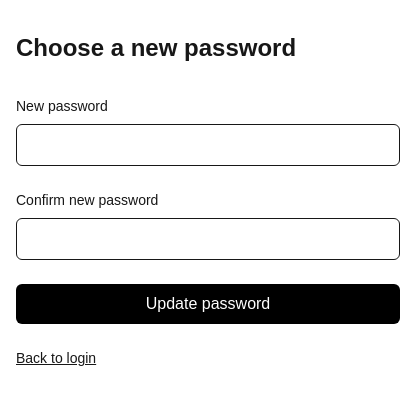
Test: Reset password page › shows a safe error when the password update fails
Expected: the heading "Choose a new password" is shown, [16,34,296,61]
Type "new-secret-password" into the password field labelled "New password" at (208, 145), box [16,124,400,166]
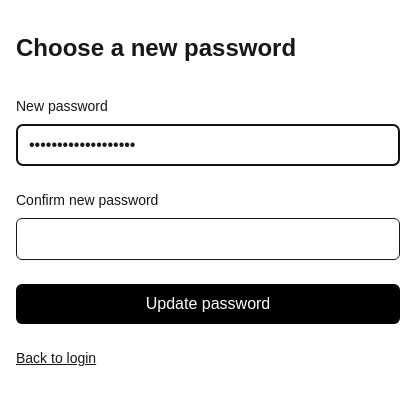
Type "new-secret-password" into the password field labelled "Confirm new password" at (208, 239), box [16,218,400,260]
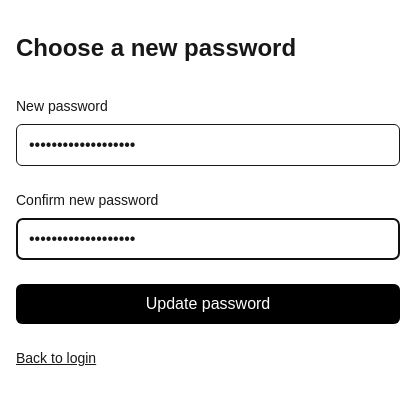
Click the button "Update password" at (208, 304), box [16,284,400,324]
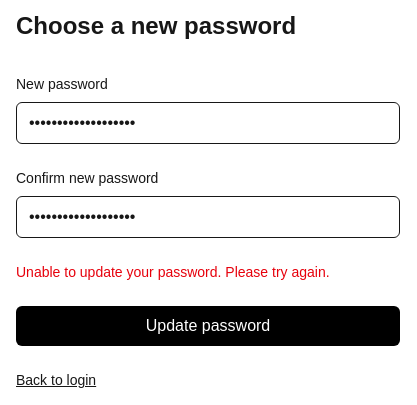
Expected: the message reads "Unable to update your password. Please try again.", [16,264,330,280]
